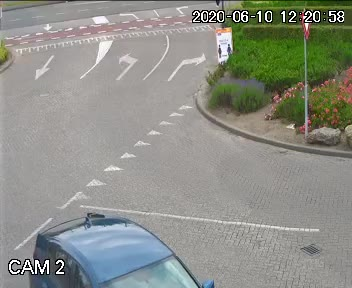car: (18, 202, 269, 288)
